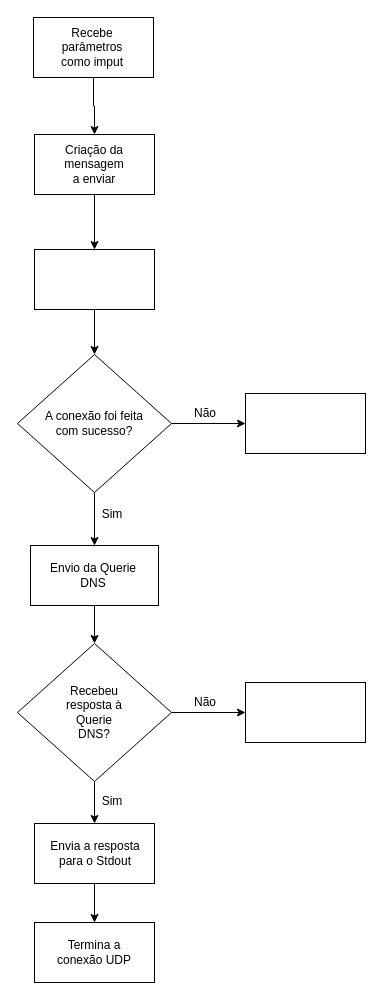
This 383x1000 diagram has some shape labels left out. The shapes that lost their labels are listed below. From the top down, each one's centre as x and y in pixels, then its label:
the point at 94,279: Establece uma conexão UDP com o servidor na porta x
the point at 305,423: Erro: conexão
the point at 305,712: Erro: resposta à Querie DNS não encontrada
